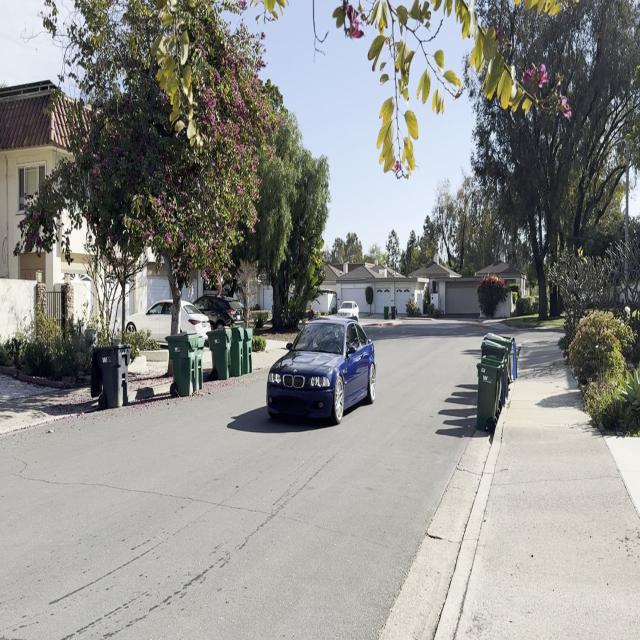Carbeetle: (245, 306, 391, 441)
